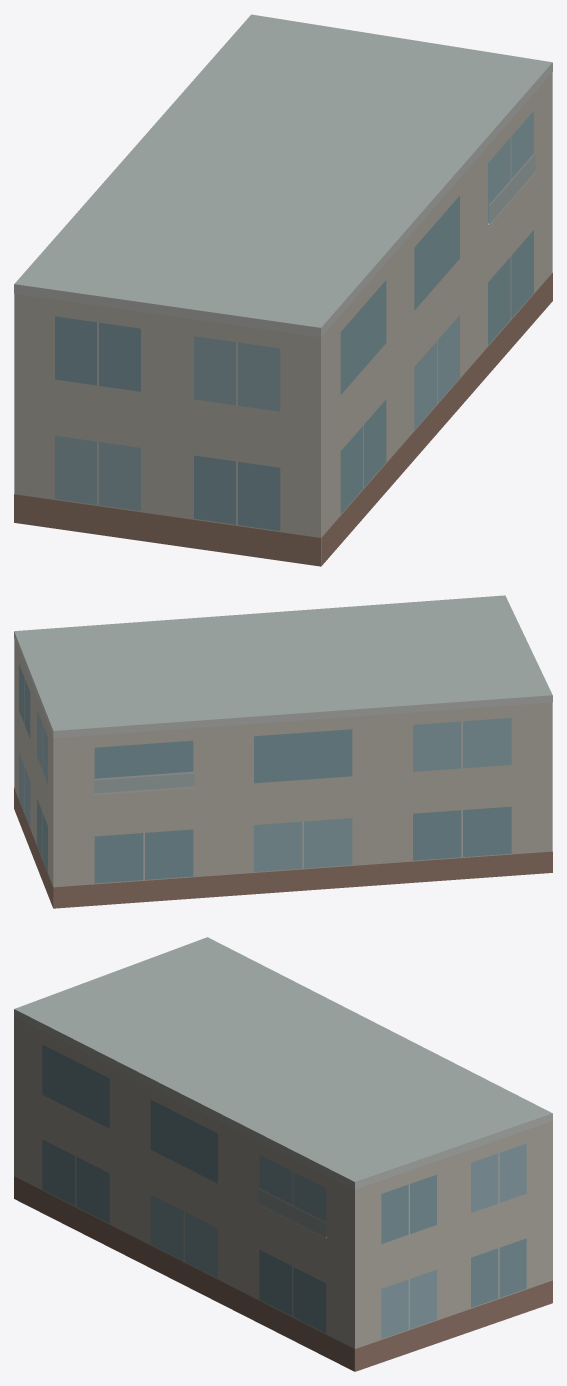
The model's file is survey-upis-32775373.glb.
3 views of the same model, one above another, from view 1: azimuth 30°, elevation 25°; view 2: azimuth 150°, elevation 25°; view 3: azimuth 270°, elevation 25° (orthographic). The views are drawn at different scales.
Visible parts, largest first — view 1: survey-upis-32775373.tmp; view 2: survey-upis-32775373.tmp; view 3: survey-upis-32775373.tmp.
Boxes of the visible parts, x1,y1,x2,y2 form: survey-upis-32775373.tmp: (14,14,552,566); survey-upis-32775373.tmp: (14,595,552,908); survey-upis-32775373.tmp: (14,937,552,1371).
Size of the model in its own units: 16.9 by 6.1 by 15.7.
